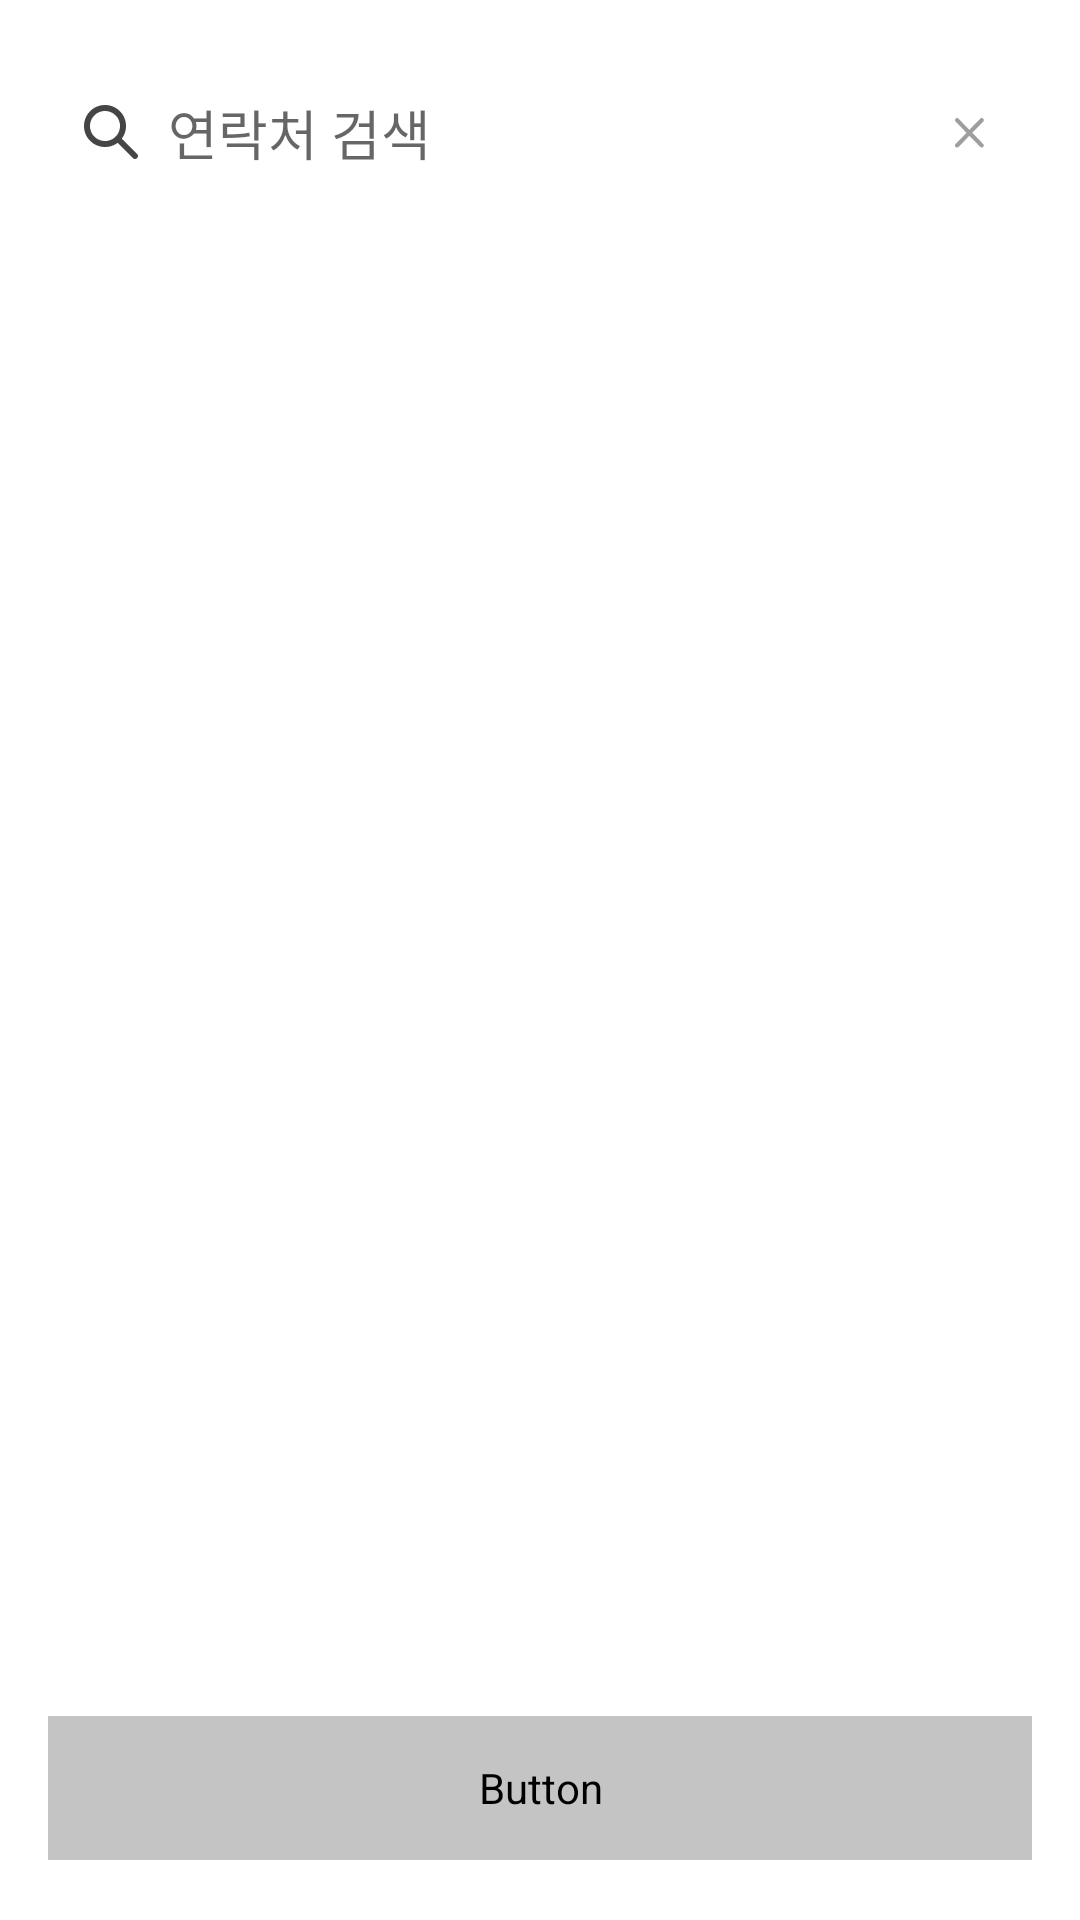

Icons on this 1080*1920 Android screen, each with its box as (x1, y1, x2, y2):
cancel: (955, 118, 984, 148)
search box: (84, 105, 138, 159)
